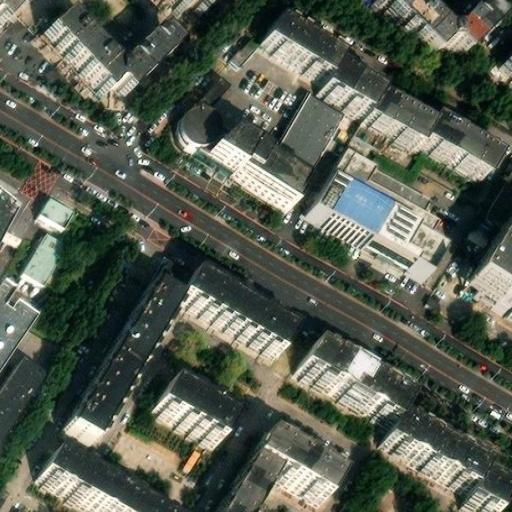building: (315, 141, 465, 267), (63, 286, 172, 443), (378, 412, 512, 512), (45, 0, 178, 82), (173, 272, 292, 358), (212, 430, 335, 512), (297, 342, 404, 421), (212, 118, 306, 196), (34, 451, 153, 512), (272, 86, 344, 168), (414, 111, 496, 176), (0, 349, 51, 439), (257, 14, 334, 73), (154, 384, 226, 442), (315, 58, 379, 111), (362, 93, 423, 143), (23, 227, 68, 279), (181, 95, 225, 138), (225, 33, 259, 70), (41, 186, 78, 218), (0, 184, 21, 240), (495, 41, 512, 78)
